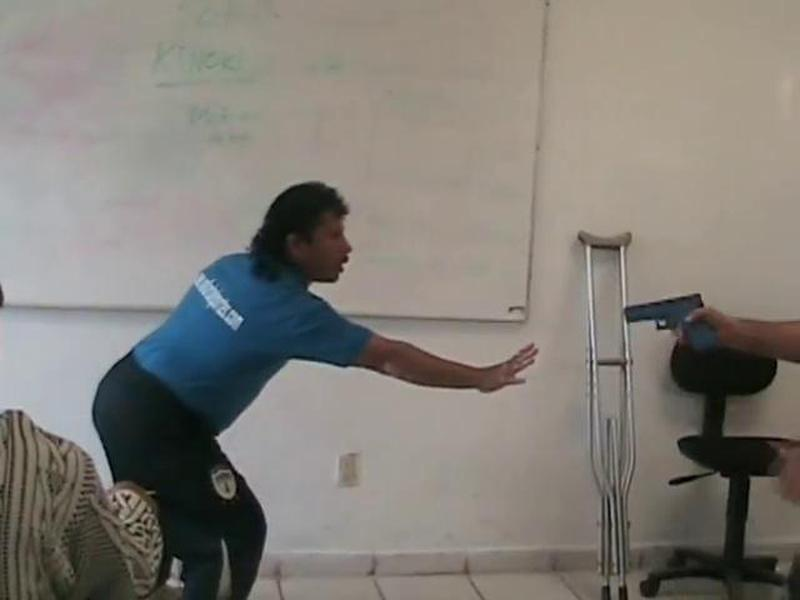Pistola: (597, 284, 730, 348)
